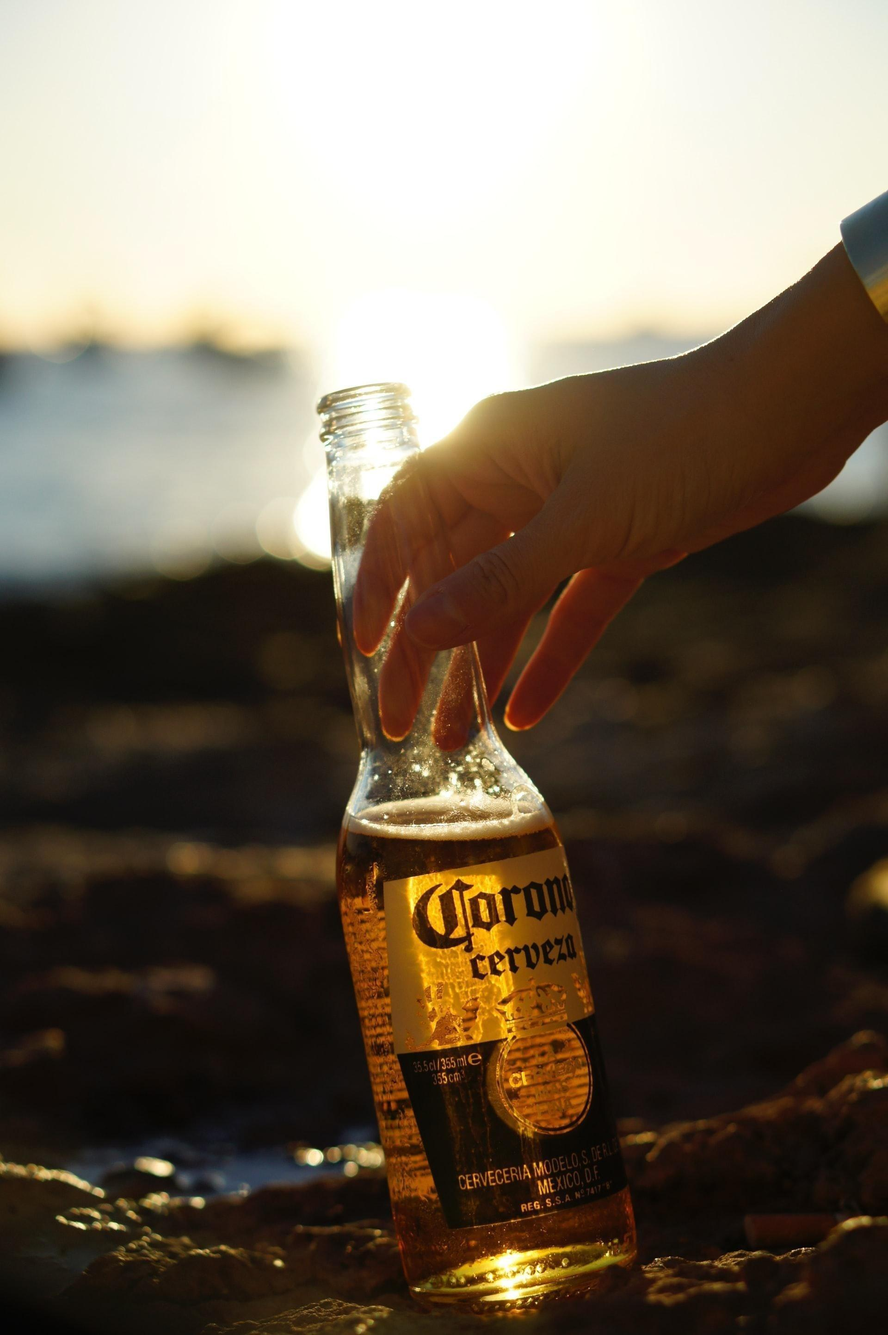bottle-glass: (300, 373, 651, 1317)
